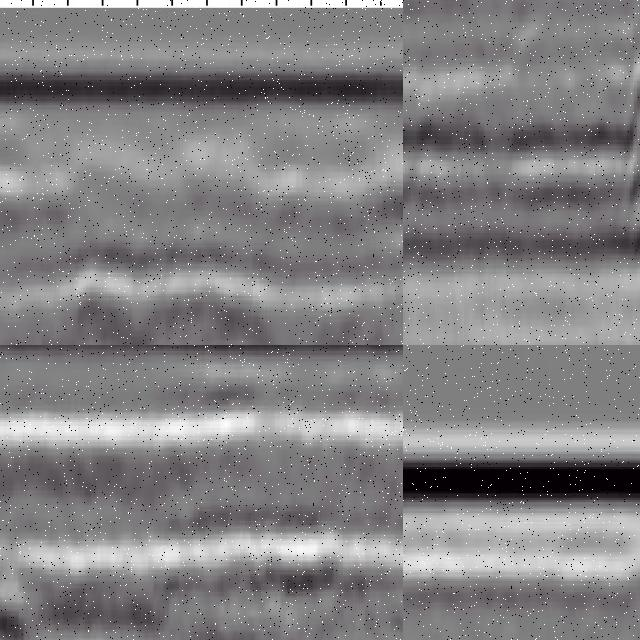crack: (615, 1, 640, 289)
